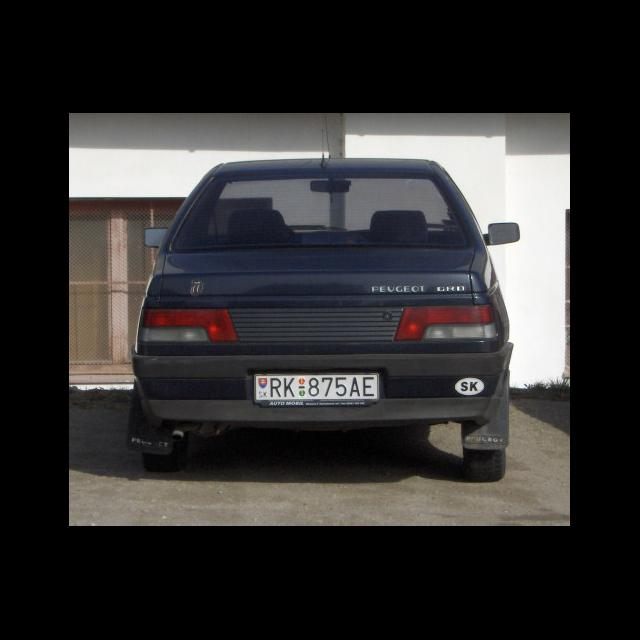Plate: (252, 370, 382, 404)
